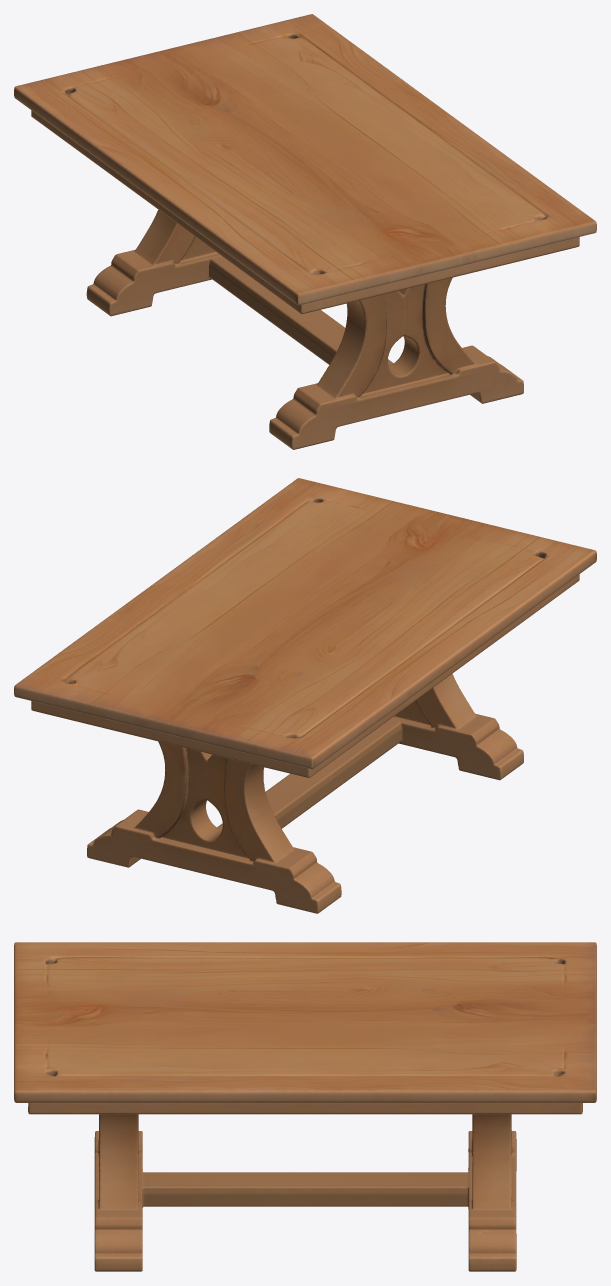
Rendered from detailed_realistic_model_grandoaktable_03.glb.
3 views of the same model, one above another, from view 1: azimuth 30°, elevation 25°; view 2: azimuth 150°, elevation 25°; view 3: azimuth 270°, elevation 25° (orthographic). The views are drawn at different scales.
Visible parts, largest first — view 1: tripo_node_633a13ee-f7d4-4d2e-8e9a-289fa4b3e969; view 2: tripo_node_633a13ee-f7d4-4d2e-8e9a-289fa4b3e969; view 3: tripo_node_633a13ee-f7d4-4d2e-8e9a-289fa4b3e969.
Boxes of the visible parts, left/top/right/bottom form: tripo_node_633a13ee-f7d4-4d2e-8e9a-289fa4b3e969: left=14, top=14, right=596, bottom=449; tripo_node_633a13ee-f7d4-4d2e-8e9a-289fa4b3e969: left=14, top=478, right=596, bottom=913; tripo_node_633a13ee-f7d4-4d2e-8e9a-289fa4b3e969: left=14, top=942, right=596, bottom=1271.
Size of the model in its own units: 0.6084 by 0.3749 by 1.
Materials: 1 (1 with a texture image).
